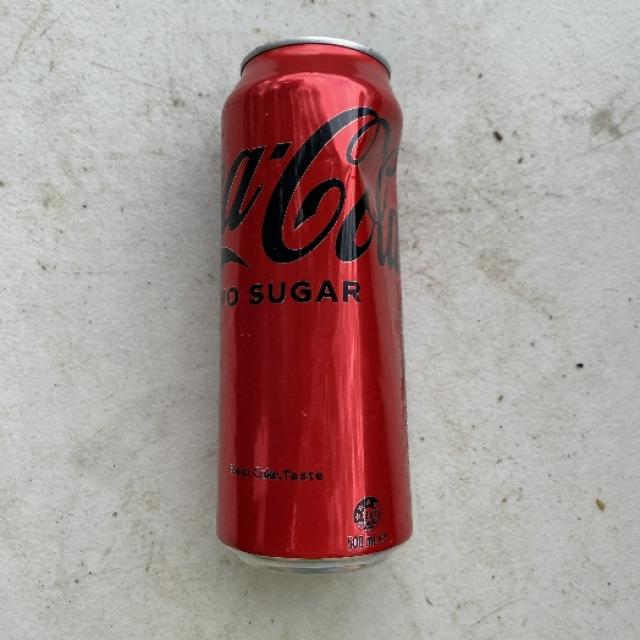metal: (215, 34, 413, 573)
